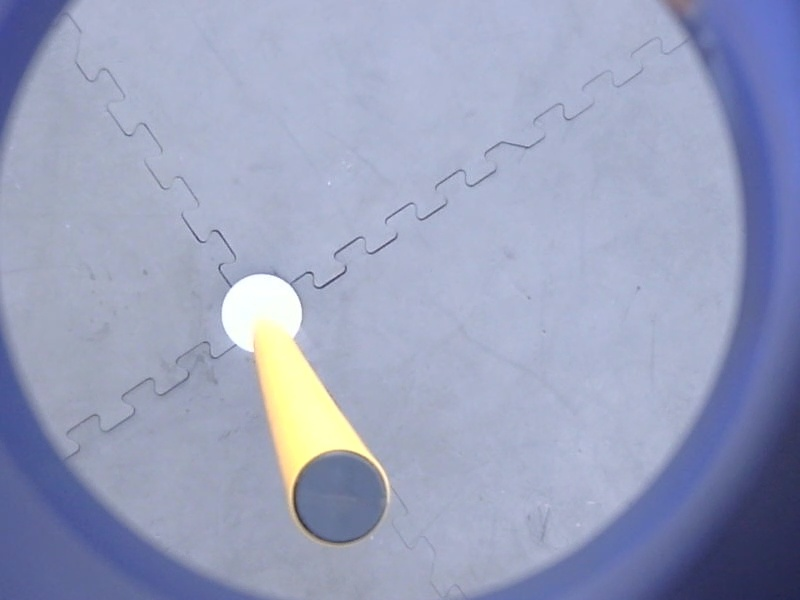tip: (281, 441, 396, 557)
